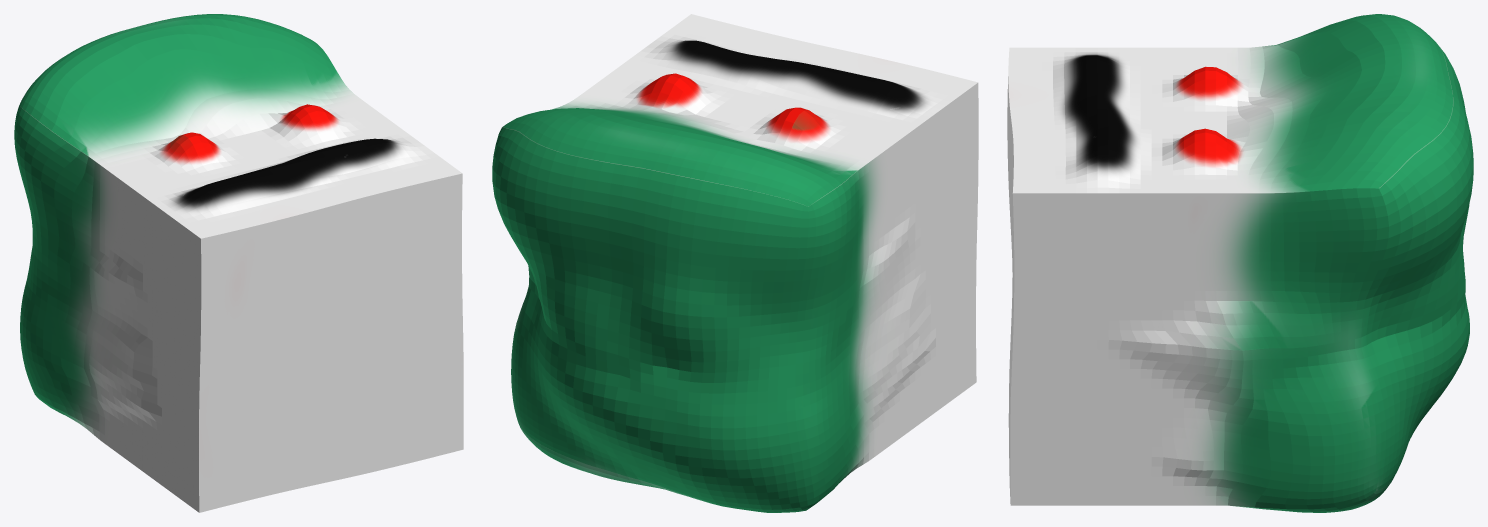
The model's file is Enemy_Test.fbx.
3 views of the same model, side by side, from view 1: azimuth 30°, elevation 25°; view 2: azimuth 150°, elevation 25°; view 3: azimuth 270°, elevation 25° (orthographic). The views are drawn at different scales.
Visible parts, largest first — view 1: Cube; view 2: Cube; view 3: Cube.
Boxes of the visible parts, <box> form: Cube: <box>14,14,463,512</box>; Cube: <box>492,14,978,512</box>; Cube: <box>1007,14,1473,512</box>.
Size of the model in its own units: 234 by 252 by 271.
